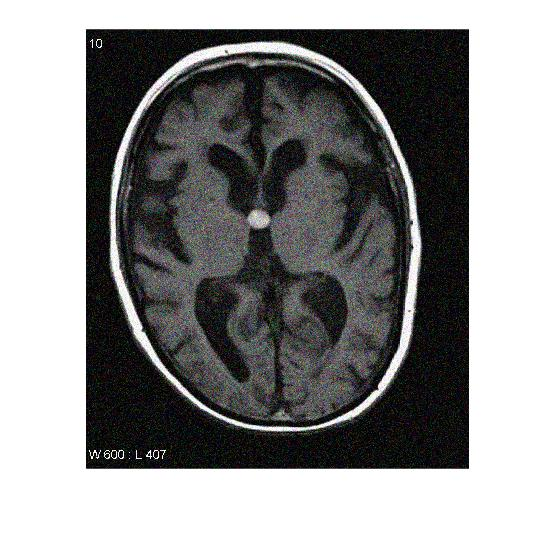Brain_Cancer: (245, 207, 273, 231)
